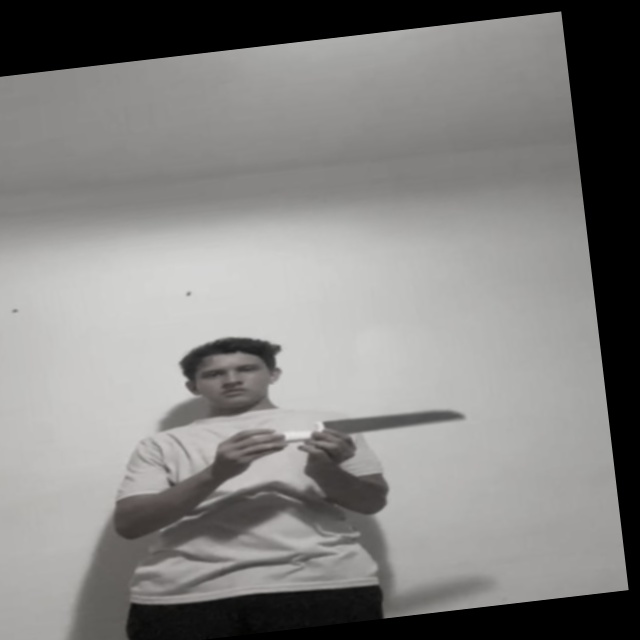Sharp-Object: (320, 404, 469, 439)
